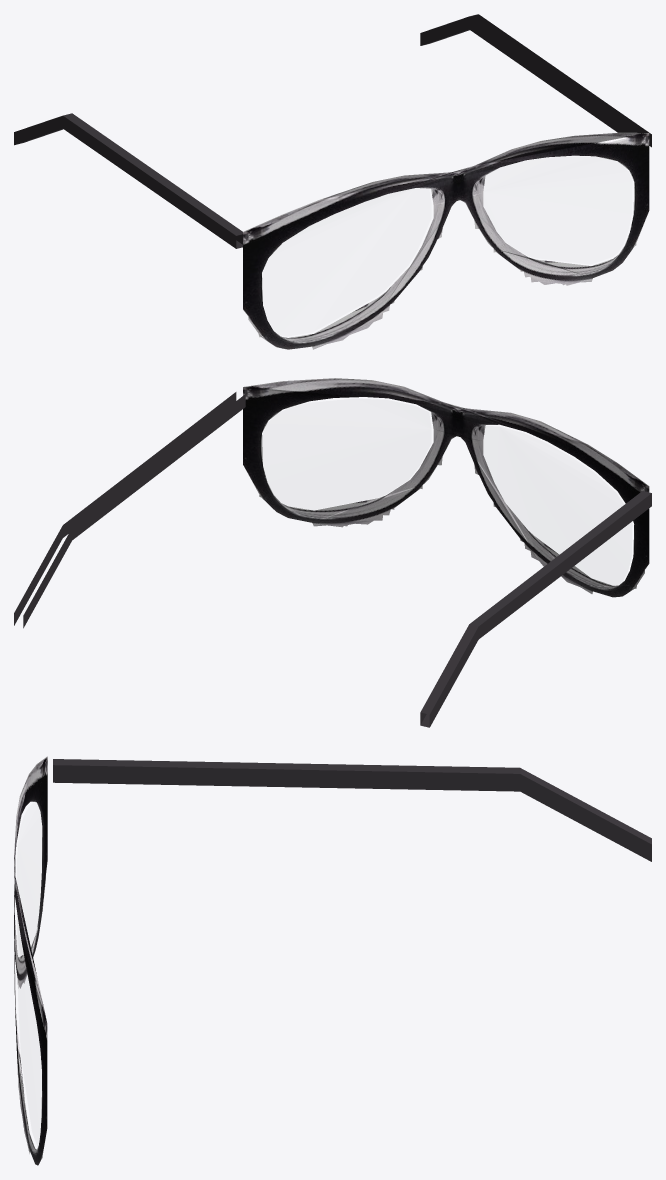
The model's file is gothamstyle-231_black.glb.
3 views of the same model, one above another, from view 1: azimuth 30°, elevation 25°; view 2: azimuth 150°, elevation 25°; view 3: azimuth 270°, elevation 25° (orthographic). The views are drawn at different scales.
Parts seen in each view (by area): view 1: frame_front, temple_viewer_left, temple_viewer_right; view 2: frame_front, temple_viewer_left, temple_viewer_right; view 3: temple_viewer_left, frame_front.
Part boxes in pixels (box(x1,y1,x2,y2)): frame_front: box(243, 132, 649, 349); temple_viewer_left: box(14, 113, 242, 248); temple_viewer_right: box(420, 14, 651, 147); frame_front: box(243, 378, 649, 597); temple_viewer_left: box(420, 491, 651, 727); temple_viewer_right: box(14, 392, 245, 628); temple_viewer_left: box(53, 759, 651, 861); frame_front: box(14, 756, 47, 1165).
Bounding box in the file's own units: 0.1328 × 0.0479 × 0.131.
Materials: 3 (2 with a texture image).
